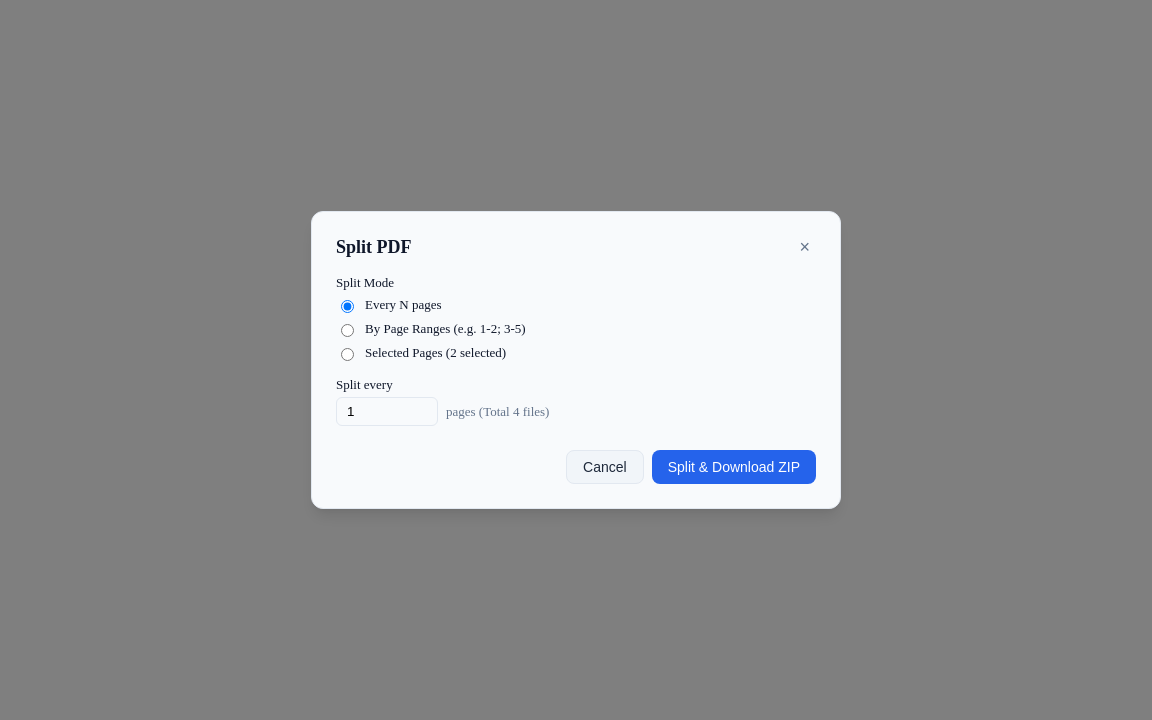
Phase 13 UI Integration: Page Management, Bookmarks, and Conversion › Task 13.7: SplitPdfDialog › switches split modes and triggers split with download
expect the radio button with test id "split-mode-every-n" is checked: met, box [341,300,354,313]
Click the radio button with test id "split-mode-ranges" at (348, 330), box [341,324,354,337]
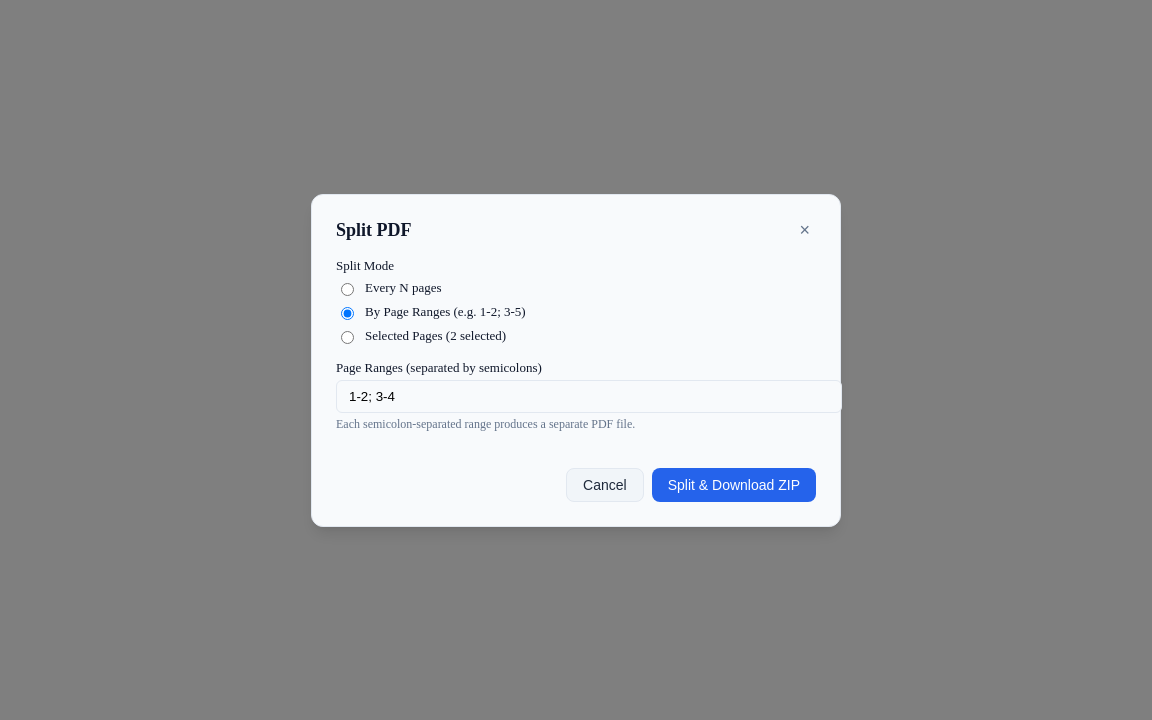
expect the radio button with test id "split-mode-ranges" is checked: met, box [341,306,354,320]
expect the field with test id "split-ranges-input" is shown: met, box [336,380,842,412]
